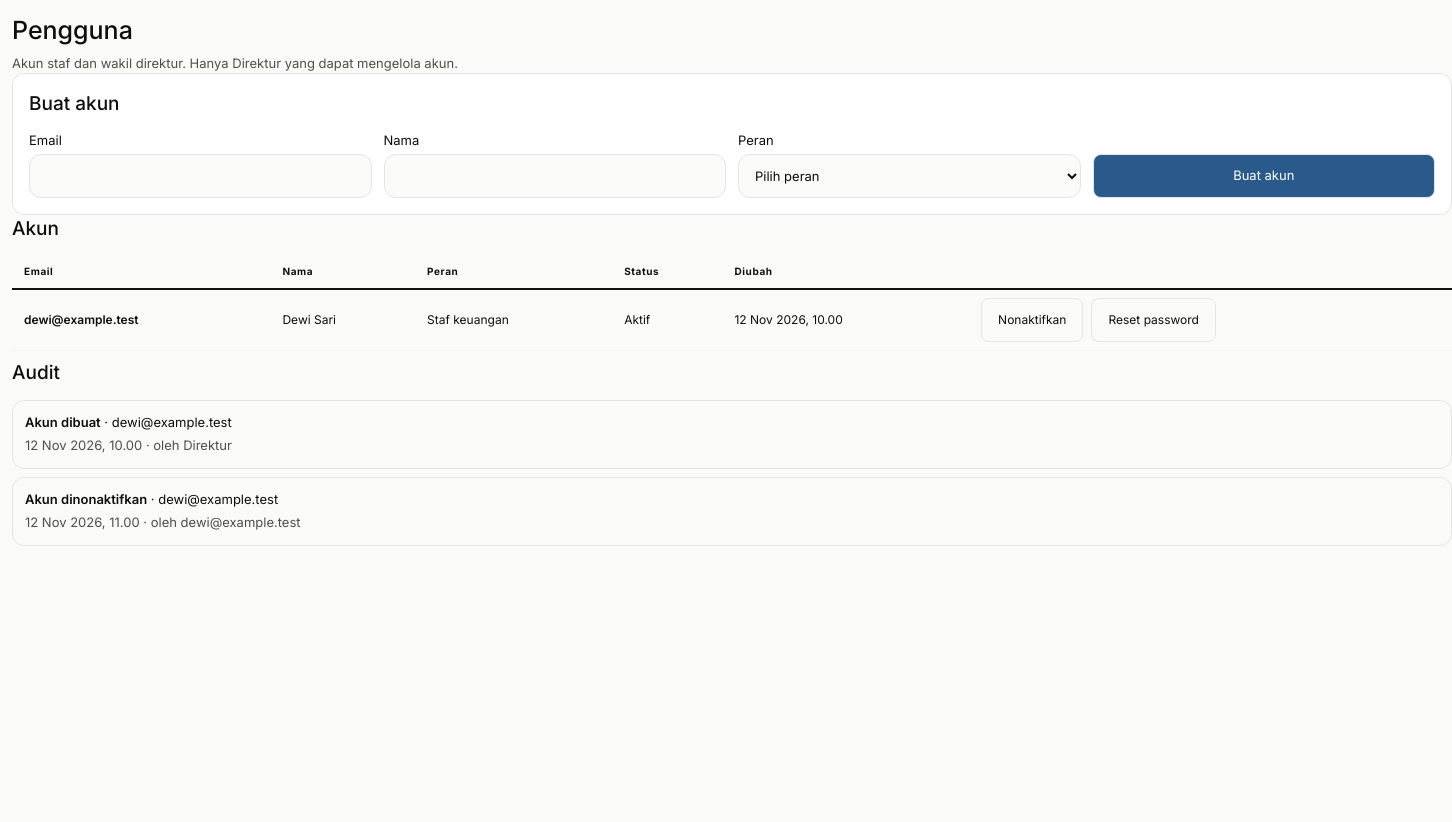
Scenario: user management › creates an account with the CSRF token and shows the temporary password once
Expected: the column heading "dewi@example.test" is shown, top-left (12, 289), bottom-right (270, 350)
Type "baru@example.test" into the field labelled "Email" at (200,176), box top-left (29, 154), bottom-right (372, 198)
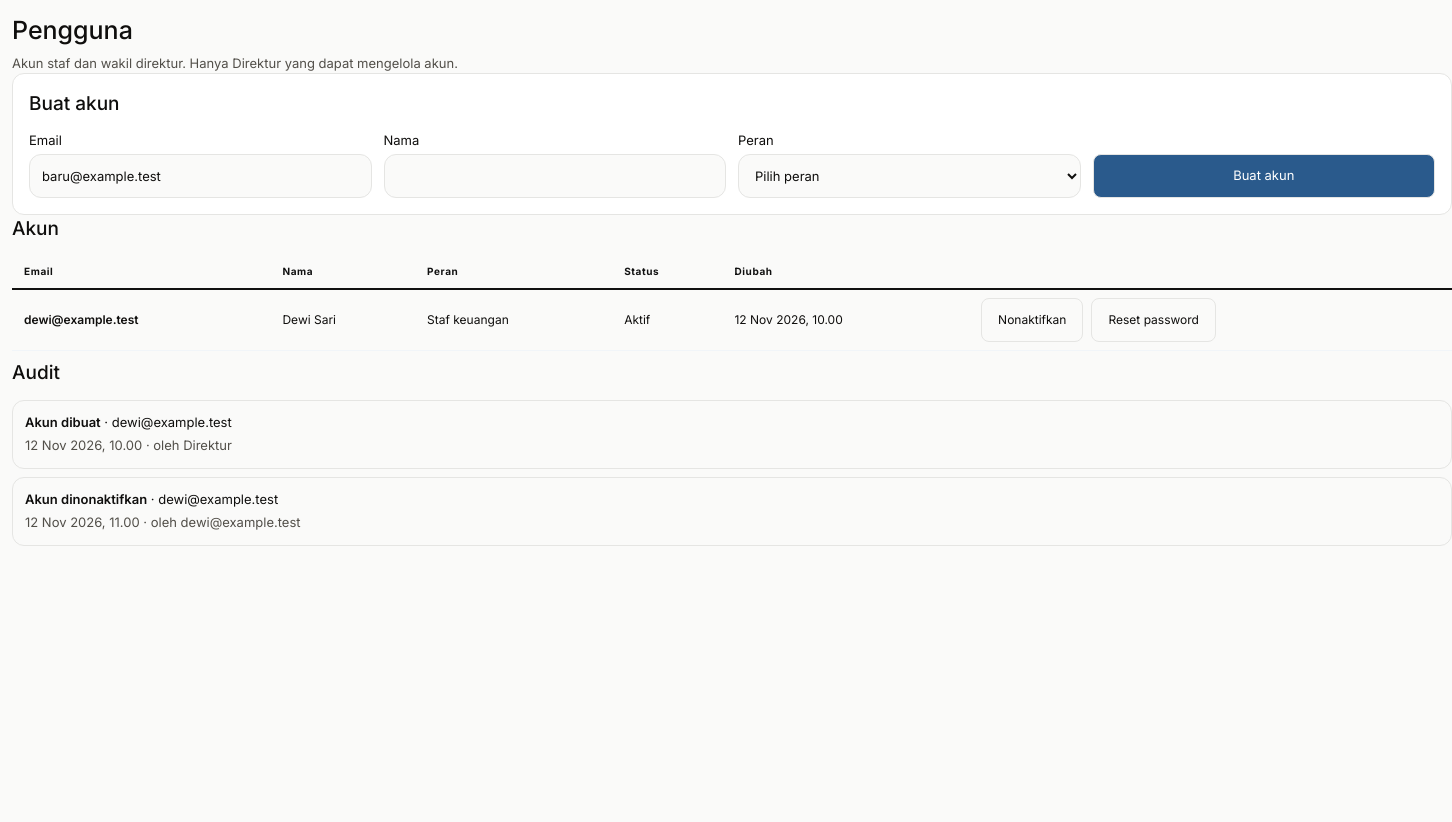
Type "Baru" into the field labelled "Nama" at (555,176), box top-left (384, 154), bottom-right (726, 198)
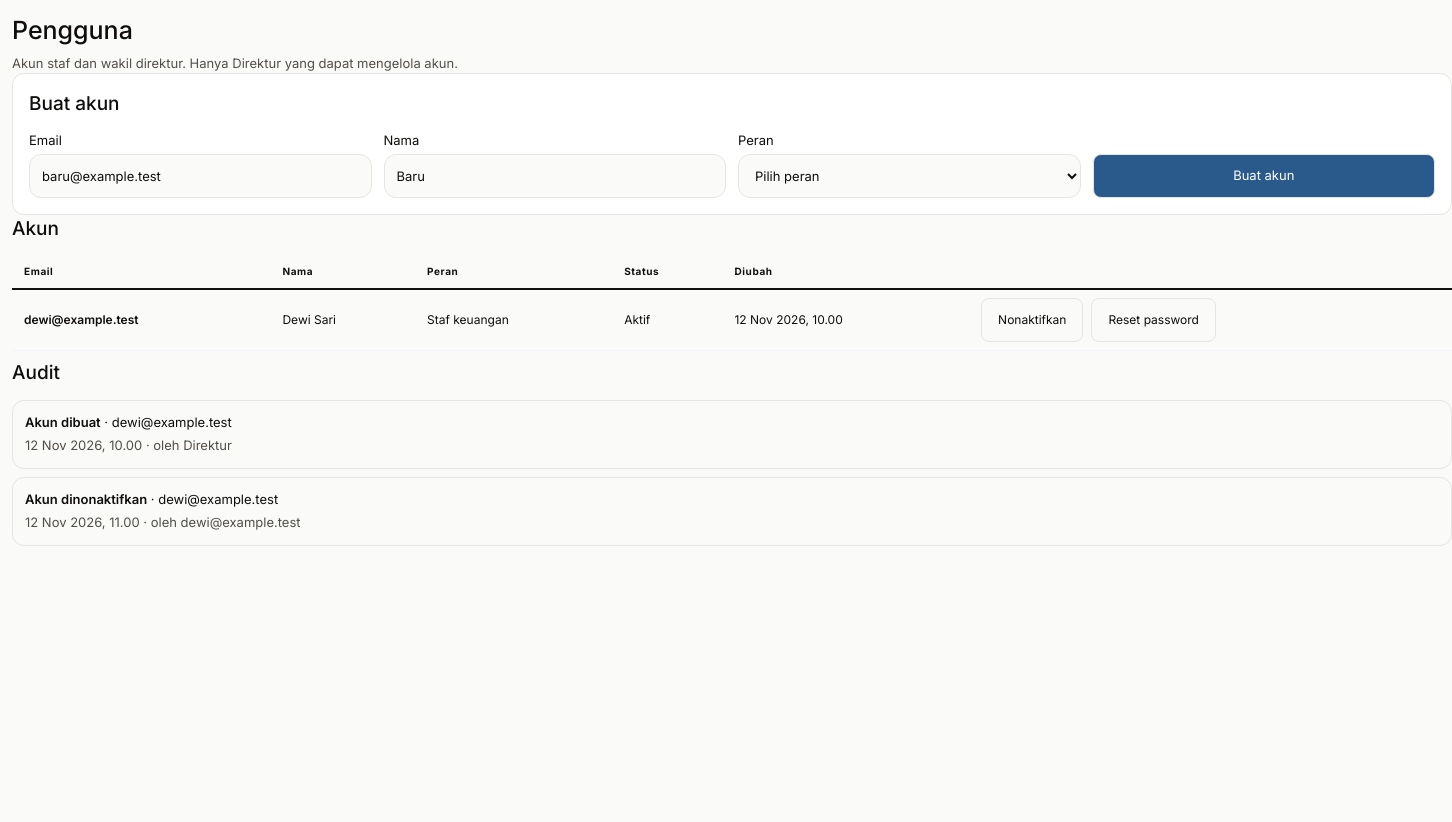
Select "Staf SDM" in the dropdown labelled "Peran" at (909,176), box top-left (738, 154), bottom-right (1080, 198)
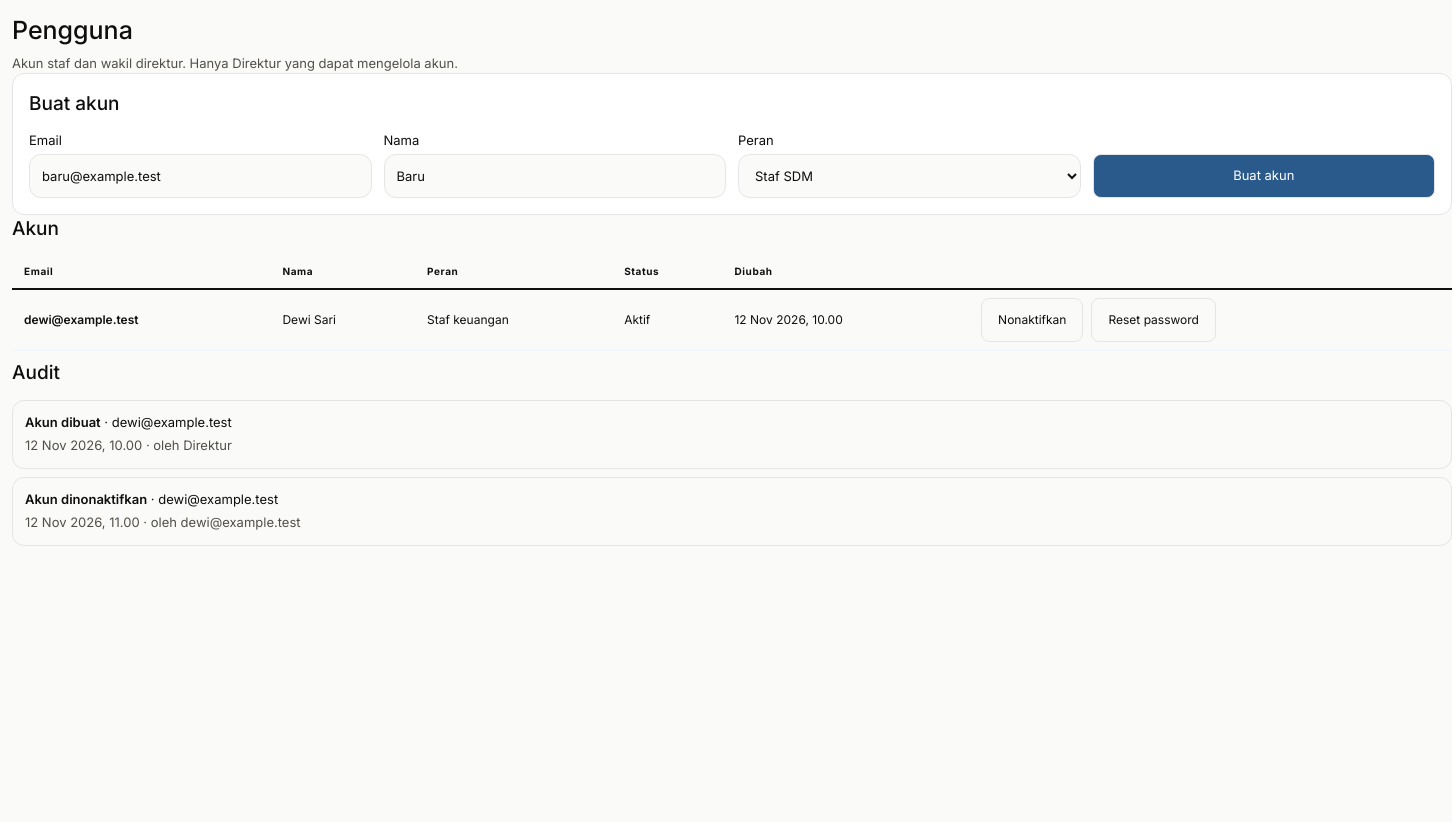
Click the button "Buat akun" at (1264,176), box top-left (1092, 154), bottom-right (1435, 198)
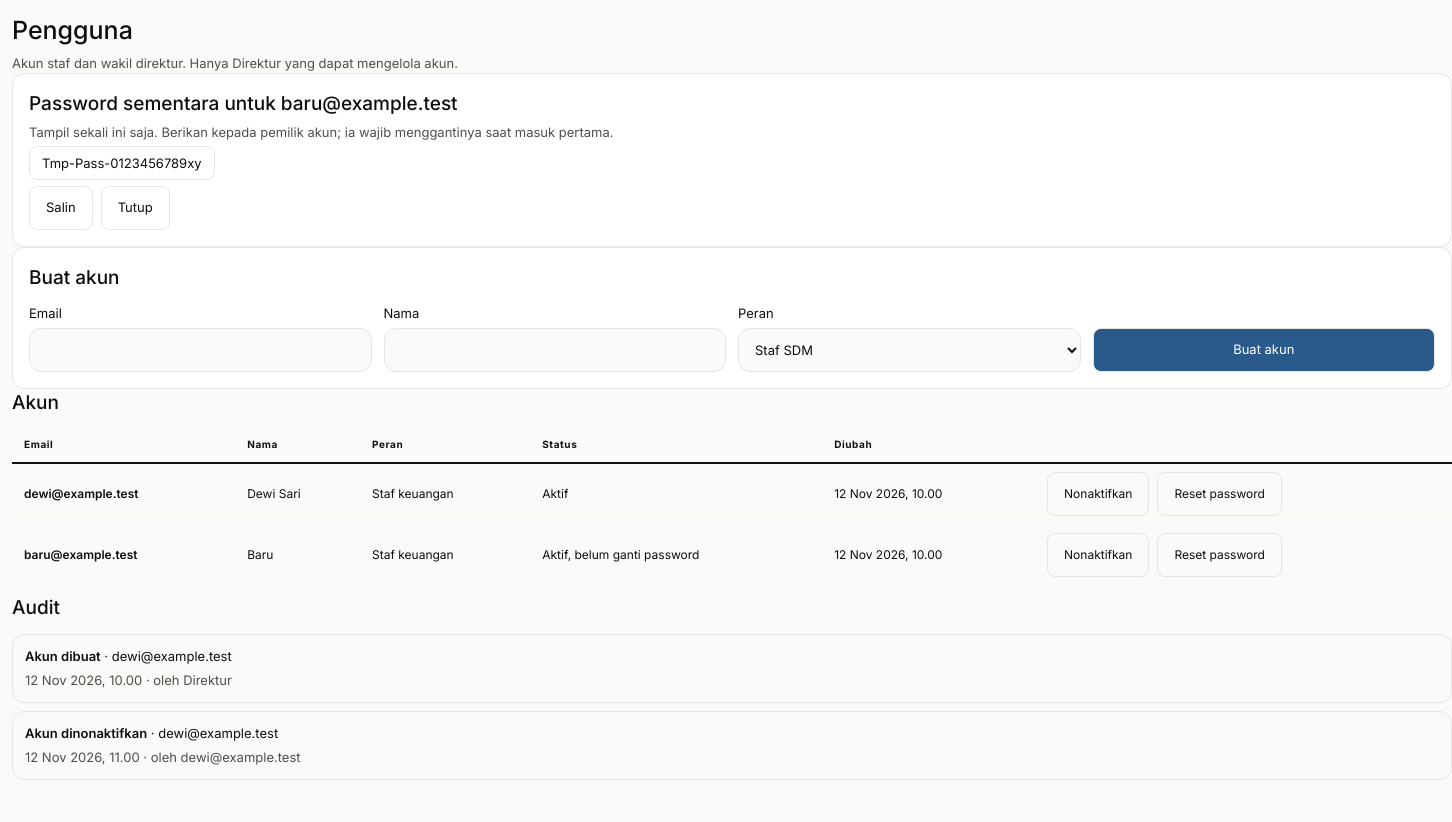
Now the text "Tmp-Pass-0123456789xy" is shown, box top-left (29, 146), bottom-right (215, 180)
Click the button "Tutup" at (135,208), box top-left (101, 186), bottom-right (170, 230)
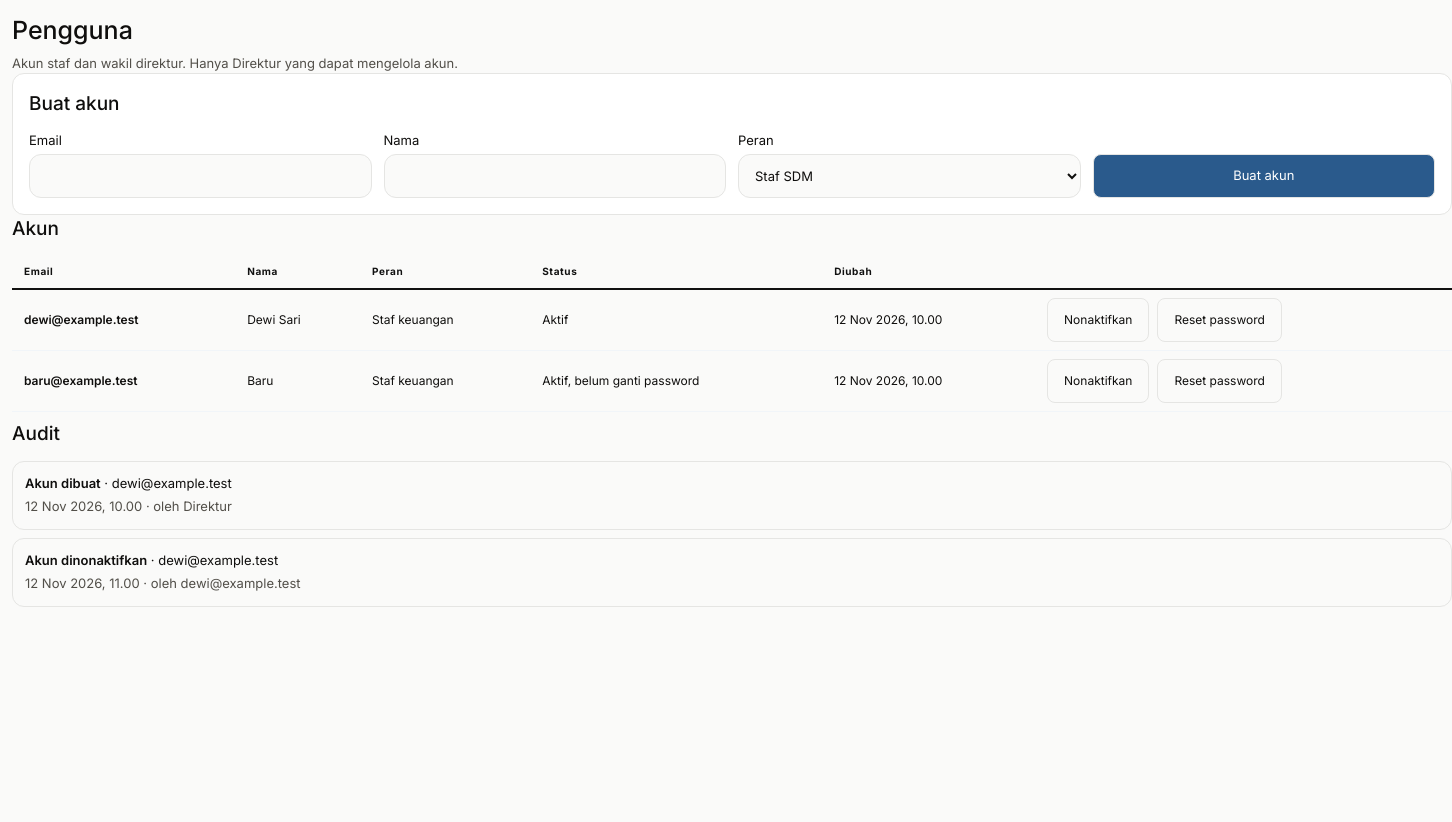
Now the text "Tmp-Pass-0123456789xy" is gone
